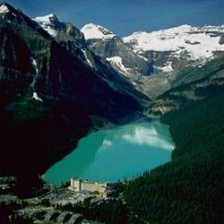neutral: (1, 2, 223, 206)
